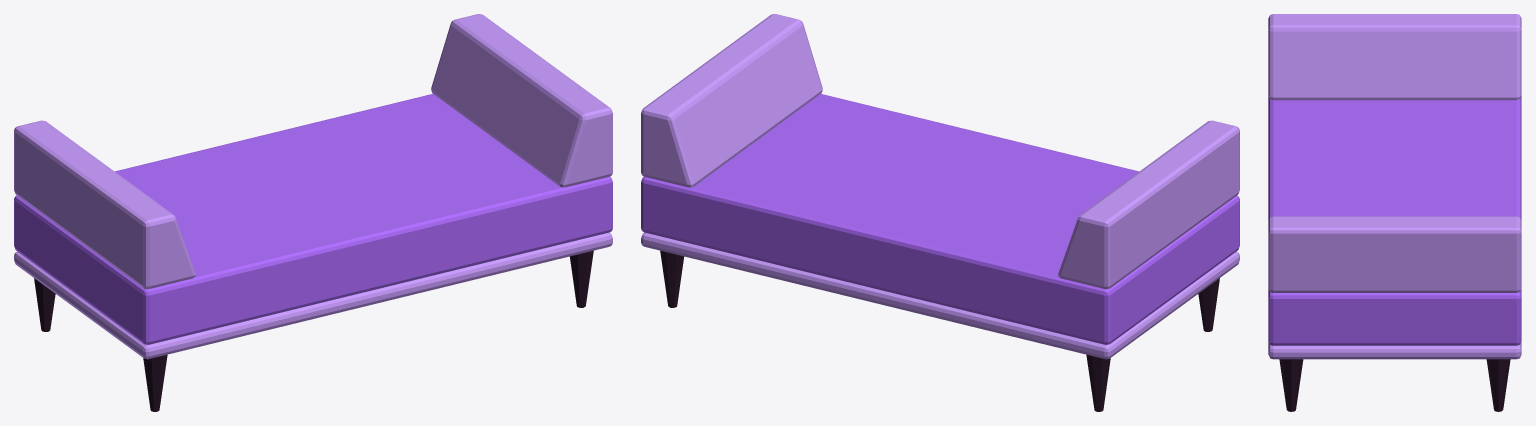
File: Prop_Sofa_05_C.fbx
3 views of the same model, side by side, from view 1: azimuth 30°, elevation 25°; view 2: azimuth 150°, elevation 25°; view 3: azimuth 270°, elevation 25° (orthographic). The views are drawn at different scales.
Parts seen in each view (by area): view 1: Prop_Sofa_05_C; view 2: Prop_Sofa_05_C; view 3: Prop_Sofa_05_C.
Boxes of the visible parts, left/top/right/bottom form: Prop_Sofa_05_C: left=14, top=14, right=612, bottom=411; Prop_Sofa_05_C: left=641, top=14, right=1239, bottom=411; Prop_Sofa_05_C: left=1268, top=14, right=1521, bottom=411.
Bounding box in the file's own units: 163 × 66.55 × 80.07.
